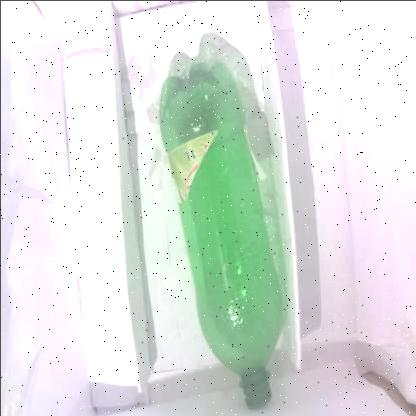Plastic Bottle: (154, 61, 292, 413)
